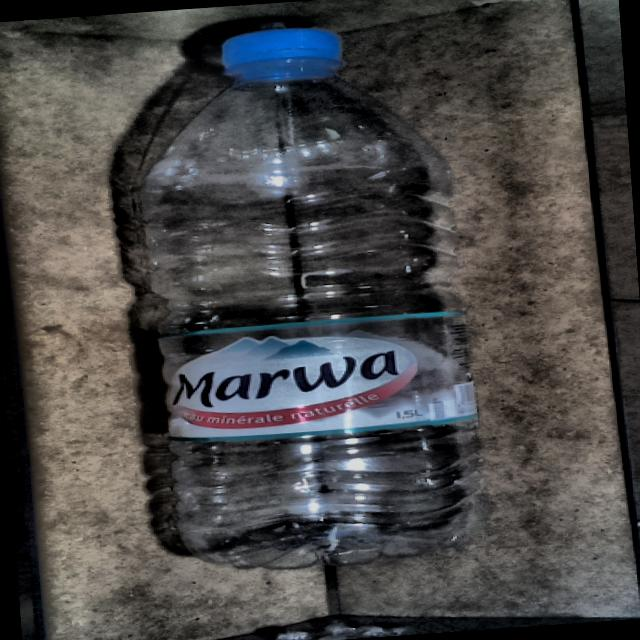plastic bottle: (139, 28, 482, 570)
